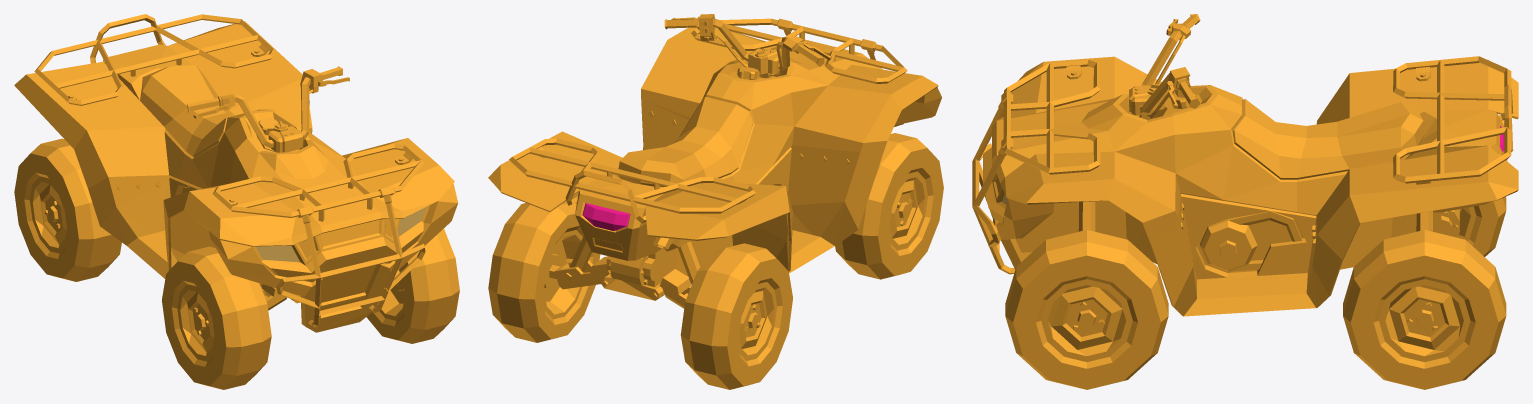
Rendered from SM_Atv.fbx.
3 views of the same model, side by side, from view 1: azimuth 30°, elevation 25°; view 2: azimuth 150°, elevation 25°; view 3: azimuth 270°, elevation 25° (orthographic). The views are drawn at different scales.
Visible parts, largest first — view 1: atv-body-farm, atv-wheel-rfr, atv-wheel-rba, atv-wheel-lfr, atv-handlebars; view 2: atv-body-farm, atv-wheel-rba, atv-wheel-lba, atv-wheel-rfr, atv-handlebars; view 3: atv-body-farm, atv-wheel-lba, atv-wheel-lfr, atv-handlebars, atv-wheel-rba.
Boxes of the visible parts, x1,y1,x2,y2 form: atv-body-farm: (14, 14, 457, 332); atv-wheel-rfr: (162, 246, 271, 389); atv-wheel-rba: (14, 138, 121, 281); atv-wheel-lfr: (366, 228, 459, 343); atv-handlebars: (187, 66, 349, 152); atv-body-farm: (488, 18, 941, 308); atv-wheel-rba: (680, 243, 792, 389); atv-wheel-lba: (488, 201, 600, 342); atv-wheel-rfr: (835, 133, 943, 279); atv-handlebars: (664, 14, 831, 78); atv-body-farm: (972, 56, 1518, 316); atv-wheel-lba: (1343, 230, 1506, 389); atv-wheel-lfr: (1005, 230, 1168, 389); atv-handlebars: (1129, 14, 1200, 119); atv-wheel-rba: (1457, 196, 1506, 256).
Bounding box in the file's own units: 1.27 × 1.28 × 2.22.
